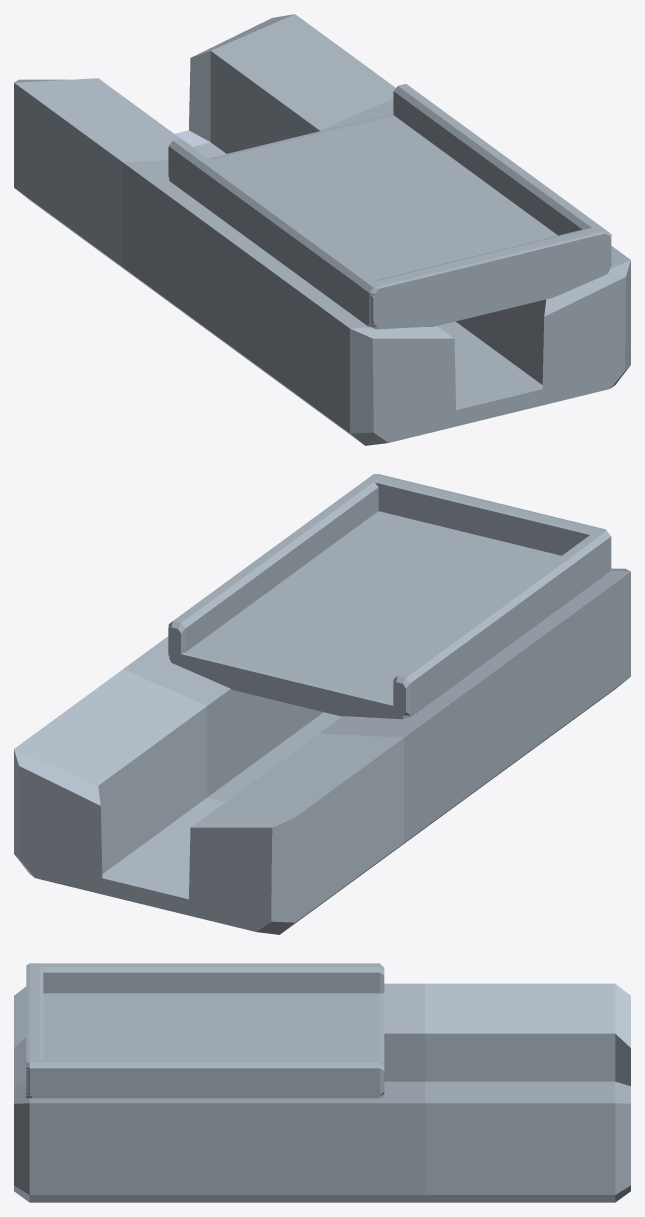
Rendered from pillar_transport_a.glb.
The picture shows the model from 3 angles, top to bottom: view 1: azimuth 30°, elevation 25°; view 2: azimuth 150°, elevation 25°; view 3: azimuth 270°, elevation 25°; orthographic projection. The views are drawn at different scales.
Visible parts, largest first — view 1: pillar_transport_a; view 2: pillar_transport_a; view 3: pillar_transport_a.
Boxes of the visible parts, x1,y1,x2,y2 form: pillar_transport_a: (14,14,630,445); pillar_transport_a: (14,474,630,934); pillar_transport_a: (14,963,630,1202).
Size of the model in its own units: 3.9 by 2.07 by 8.5.
